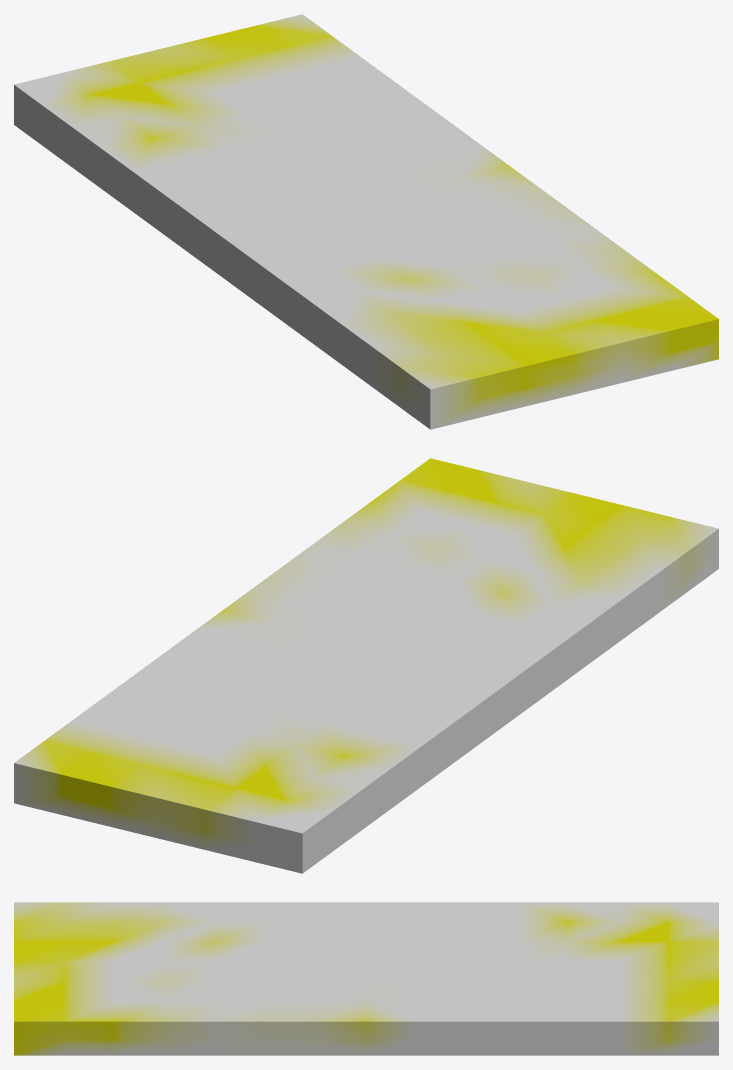
File: SM_Floor_Small3.fbx
3 views of the same model, one above another, from view 1: azimuth 30°, elevation 25°; view 2: azimuth 150°, elevation 25°; view 3: azimuth 270°, elevation 25° (orthographic). The views are drawn at different scales.
Visible parts, largest first — view 1: SM_Floor_Small, SM_Floor_Small.001; view 2: SM_Floor_Small, SM_Floor_Small.001; view 3: SM_Floor_Small, SM_Floor_Small.001.
Boxes of the visible parts, x1,y1,x2,y2 form: SM_Floor_Small: [14, 14, 718, 389]; SM_Floor_Small.001: [14, 85, 718, 429]; SM_Floor_Small: [14, 458, 718, 833]; SM_Floor_Small.001: [14, 529, 718, 873]; SM_Floor_Small: [14, 902, 718, 1025]; SM_Floor_Small.001: [14, 1025, 718, 1055].
Size of the model in its own units: 300 by 40 by 750.
